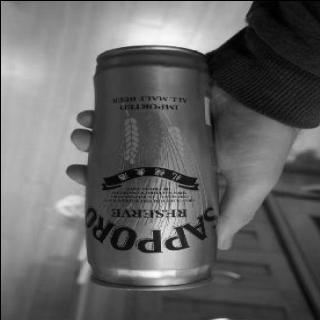alumunium_can: (80, 43, 224, 295)
